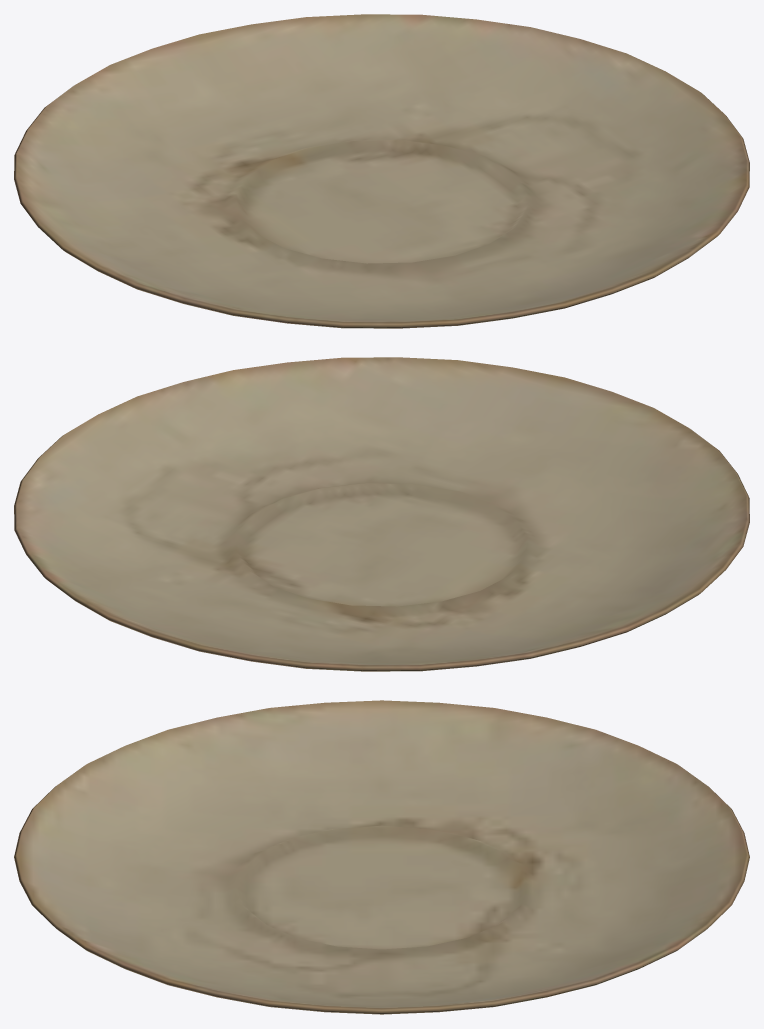
The model's file is SM_teadish_b72883.glb.
3 renders of one model, top to bottom at view 1: azimuth 30°, elevation 25°; view 2: azimuth 150°, elevation 25°; view 3: azimuth 270°, elevation 25°, orthographic.
Bounding box in the file's own units: 0.1156 × 0.00951 × 0.1156.
Materials: 1 (1 with a texture image).
